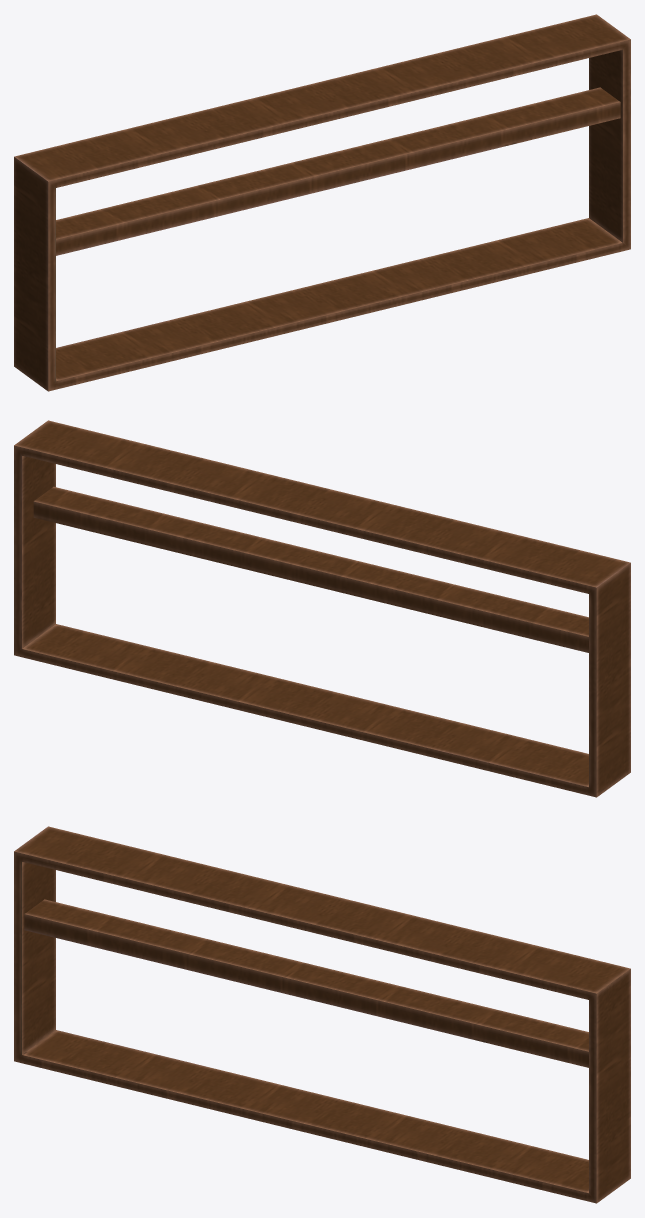
File: Wooden Frame_(Wall).fbx
The picture shows the model from 3 angles, top to bottom: view 1: azimuth 30°, elevation 25°; view 2: azimuth 150°, elevation 25°; view 3: azimuth 330°, elevation 25°; orthographic projection.
Parts seen in each view (by area): view 1: Wooden Frame_(Wall); view 2: Wooden Frame_(Wall); view 3: Wooden Frame_(Wall).
Part boxes in pixels (<box>): Wooden Frame_(Wall): <box>14,14,630,391</box>; Wooden Frame_(Wall): <box>14,420,630,797</box>; Wooden Frame_(Wall): <box>14,826,630,1203</box>.
Bounding box in the file's own units: 444 × 153 × 45.12.
